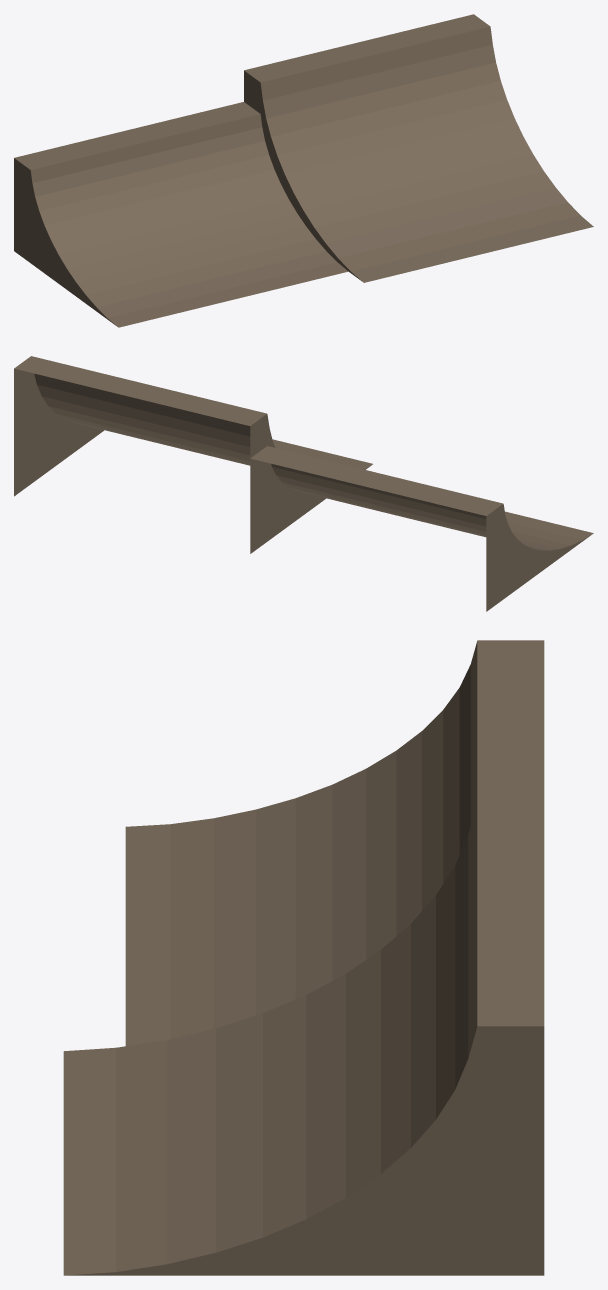
Rendered from skate-ramp.lod2.glb.
3 views of the same model, one above another, from view 1: azimuth 30°, elevation 25°; view 2: azimuth 150°, elevation 25°; view 3: azimuth 270°, elevation 25° (orthographic). The views are drawn at different scales.
Visible parts, largest first — view 1: DoubleRamp_M_Ramp2_0; view 2: DoubleRamp_M_Ramp2_0; view 3: DoubleRamp_M_Ramp2_0.
Part boxes in pixels (bbox=[...]): DoubleRamp_M_Ramp2_0: bbox=[14, 14, 593, 327]; DoubleRamp_M_Ramp2_0: bbox=[14, 356, 593, 611]; DoubleRamp_M_Ramp2_0: bbox=[63, 640, 544, 1275].
Size of the model in its own units: 10.33 by 2.68 by 4.67.
